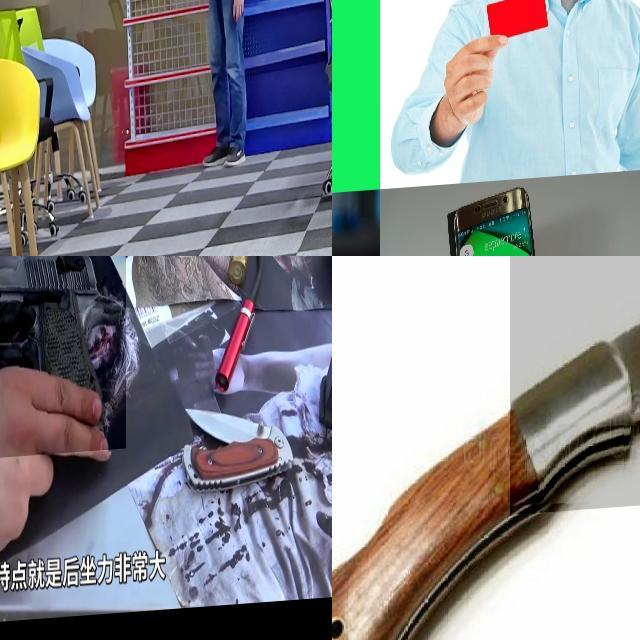-: (509, 256, 640, 518)
gun-knife-thesis - v11 Yolov5 augmented: (0, 256, 126, 469), (143, 0, 173, 19)
